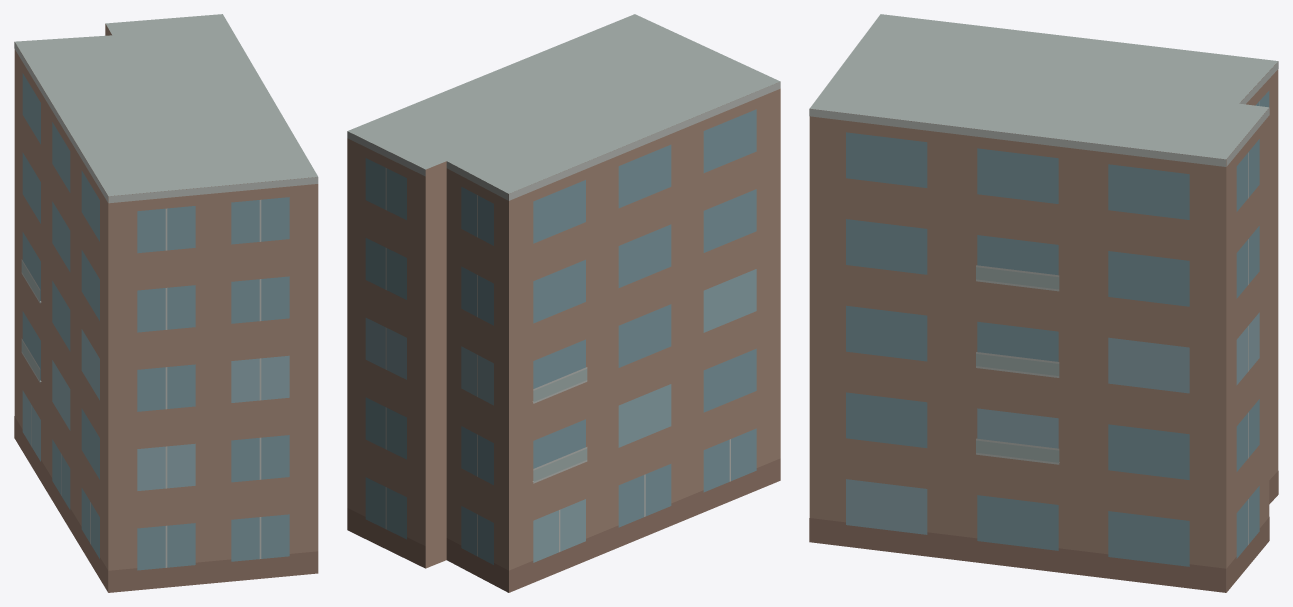
File: survey-upis-32953203.glb
3 views of the same model, side by side, from view 1: azimuth 30°, elevation 25°; view 2: azimuth 150°, elevation 25°; view 3: azimuth 270°, elevation 25° (orthographic). The views are drawn at different scales.
Parts seen in each view (by area): view 1: survey-upis-32953203.tmp; view 2: survey-upis-32953203.tmp; view 3: survey-upis-32953203.tmp.
Boxes of the visible parts, x1,y1,x2,y2 form: survey-upis-32953203.tmp: [14, 14, 318, 592]; survey-upis-32953203.tmp: [347, 14, 780, 592]; survey-upis-32953203.tmp: [809, 14, 1278, 592].
Size of the model in its own units: 9.94 by 13.8 by 13.54.
